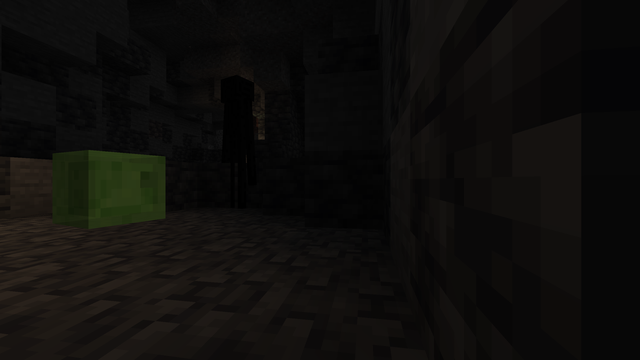endermens: (219, 70, 257, 209)
slimes: (45, 147, 170, 228)
